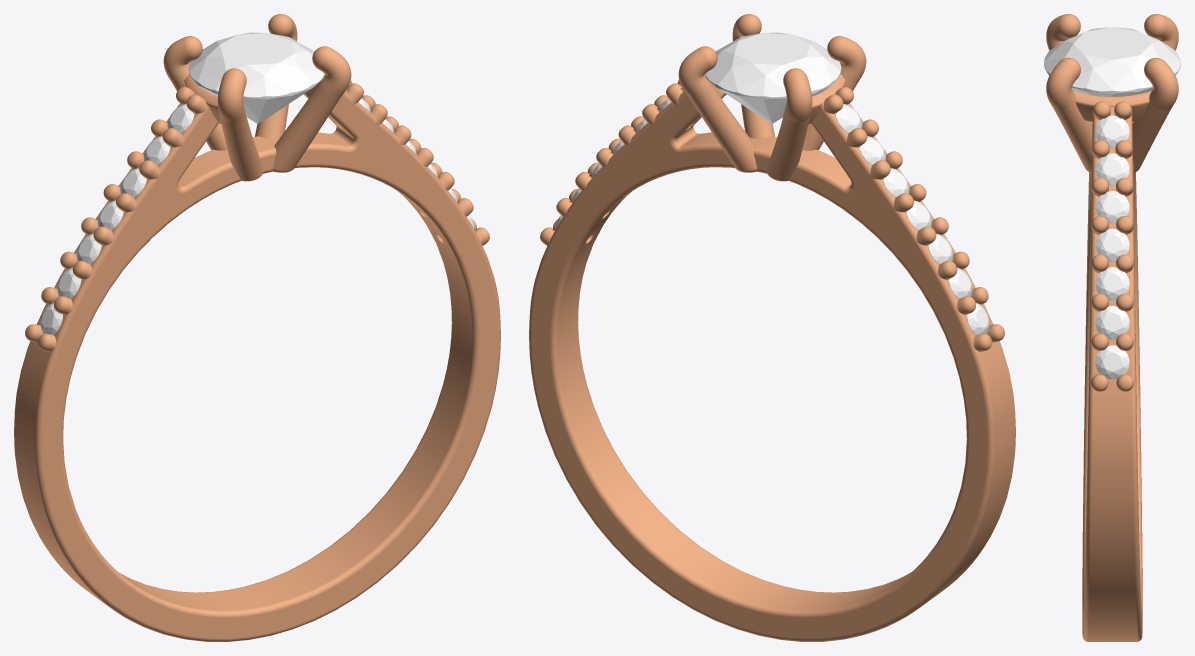
Rendered from chiara.glb.
The picture shows the model from 3 angles, left to right: view 1: azimuth 30°, elevation 25°; view 2: azimuth 150°, elevation 25°; view 3: azimuth 270°, elevation 25°; orthographic projection.
Visible parts, largest first — view 1: 3844_CHIARA3dm; view 2: 3844_CHIARA3dm; view 3: 3844_CHIARA3dm.
Part boxes in pixels (x1=…): 3844_CHIARA3dm: x1=14, y1=14, x2=500, y2=641; 3844_CHIARA3dm: x1=529, y1=14, x2=1015, y2=641; 3844_CHIARA3dm: x1=1044, y1=14, x2=1180, y2=641.
Size of the model in its own units: 2.53 by 3.03 by 0.6482.
